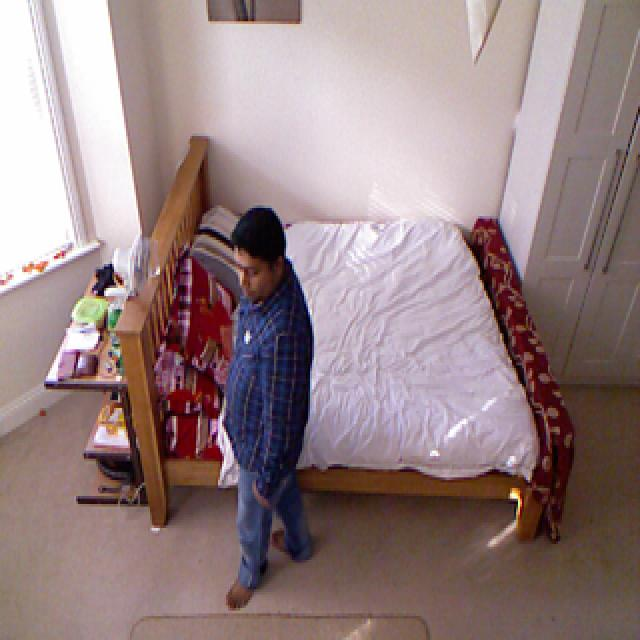standing: (212, 205, 320, 596)
